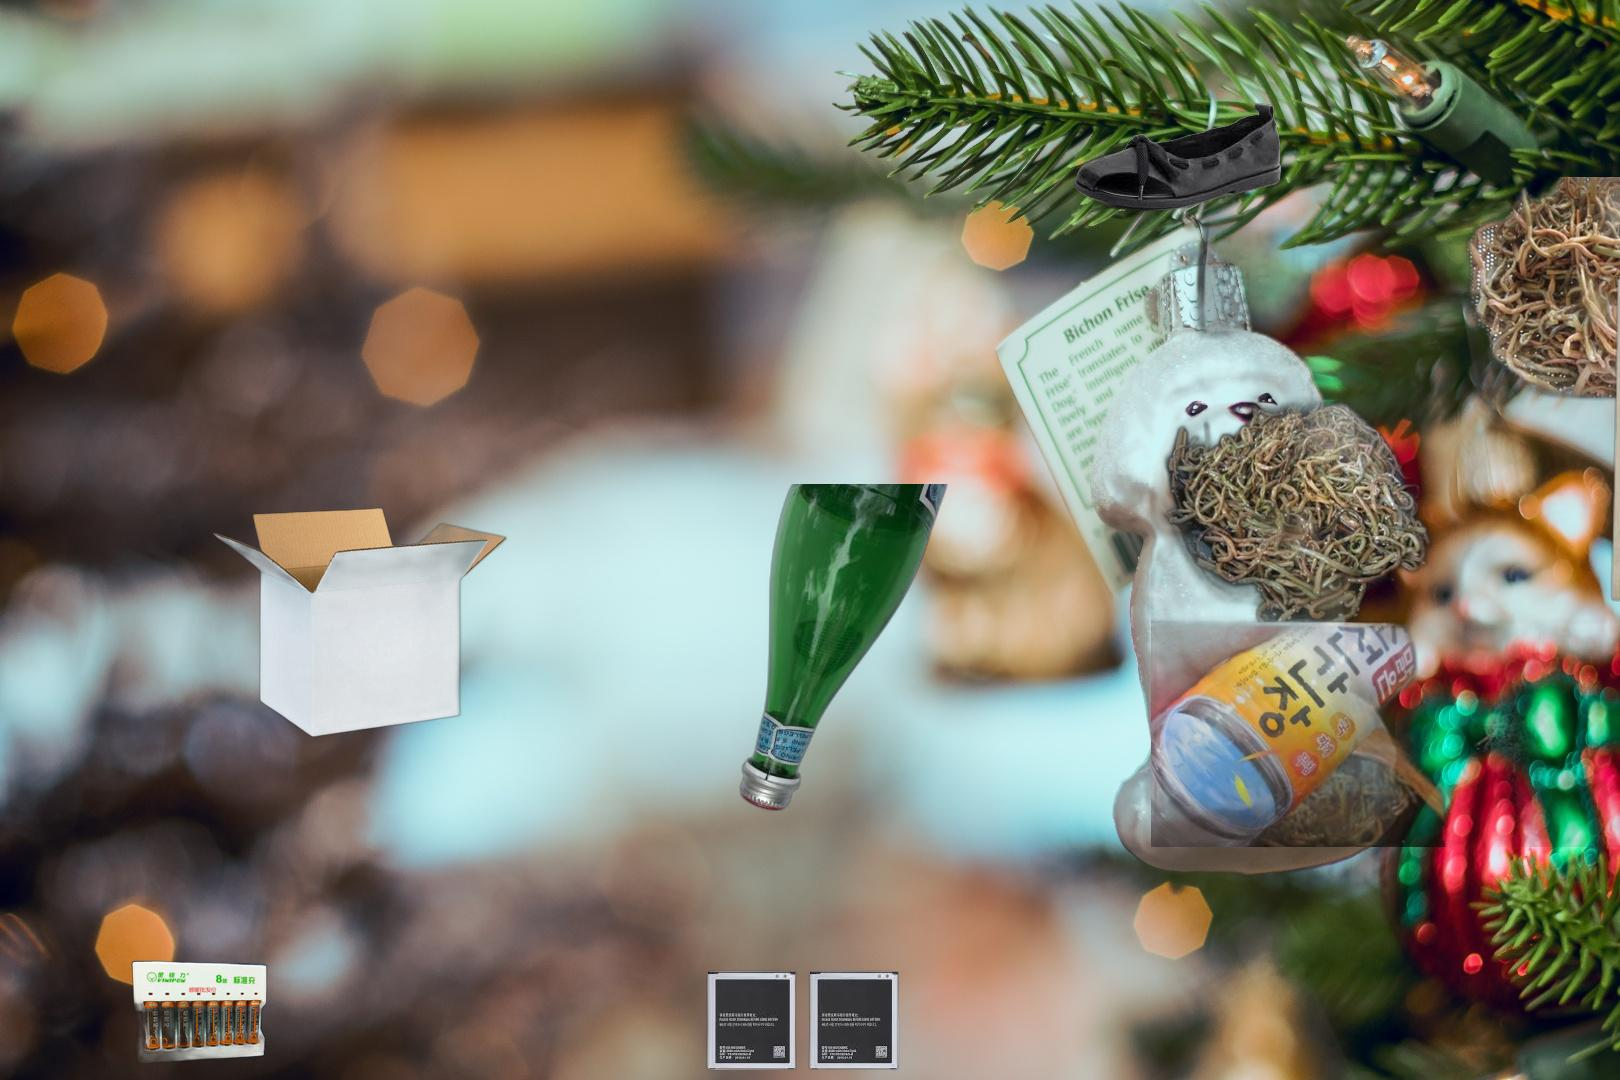battery: (704, 968, 902, 1073), (125, 958, 274, 1078)
biological: (1151, 177, 1620, 847)
glass: (735, 485, 952, 814)
paper: (1606, 262, 1620, 616)
shoes: (1072, 101, 1284, 215)
trashbox-cardboard: (209, 505, 509, 747), (1, 965, 513, 1080)
